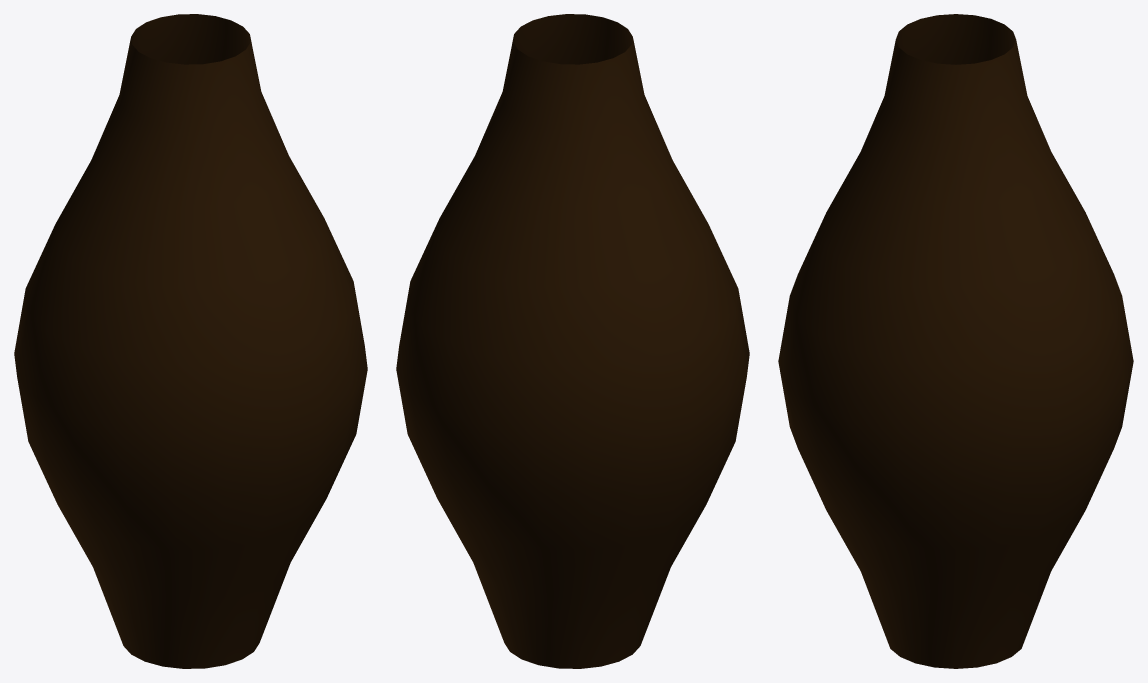
3 renders of one model, left to right at view 1: azimuth 30°, elevation 25°; view 2: azimuth 150°, elevation 25°; view 3: azimuth 270°, elevation 25°, orthographic.
Visible parts, largest first — view 1: polySurface2; view 2: polySurface2; view 3: polySurface2.
Boxes of the visible parts, x1,y1,x2,y2 form: polySurface2: (14, 14, 367, 668); polySurface2: (396, 14, 749, 668); polySurface2: (778, 14, 1133, 668).
Size of the model in its own units: 5.05 by 9.41 by 5.05.
